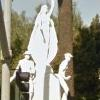Statue: (17, 2, 70, 89)
